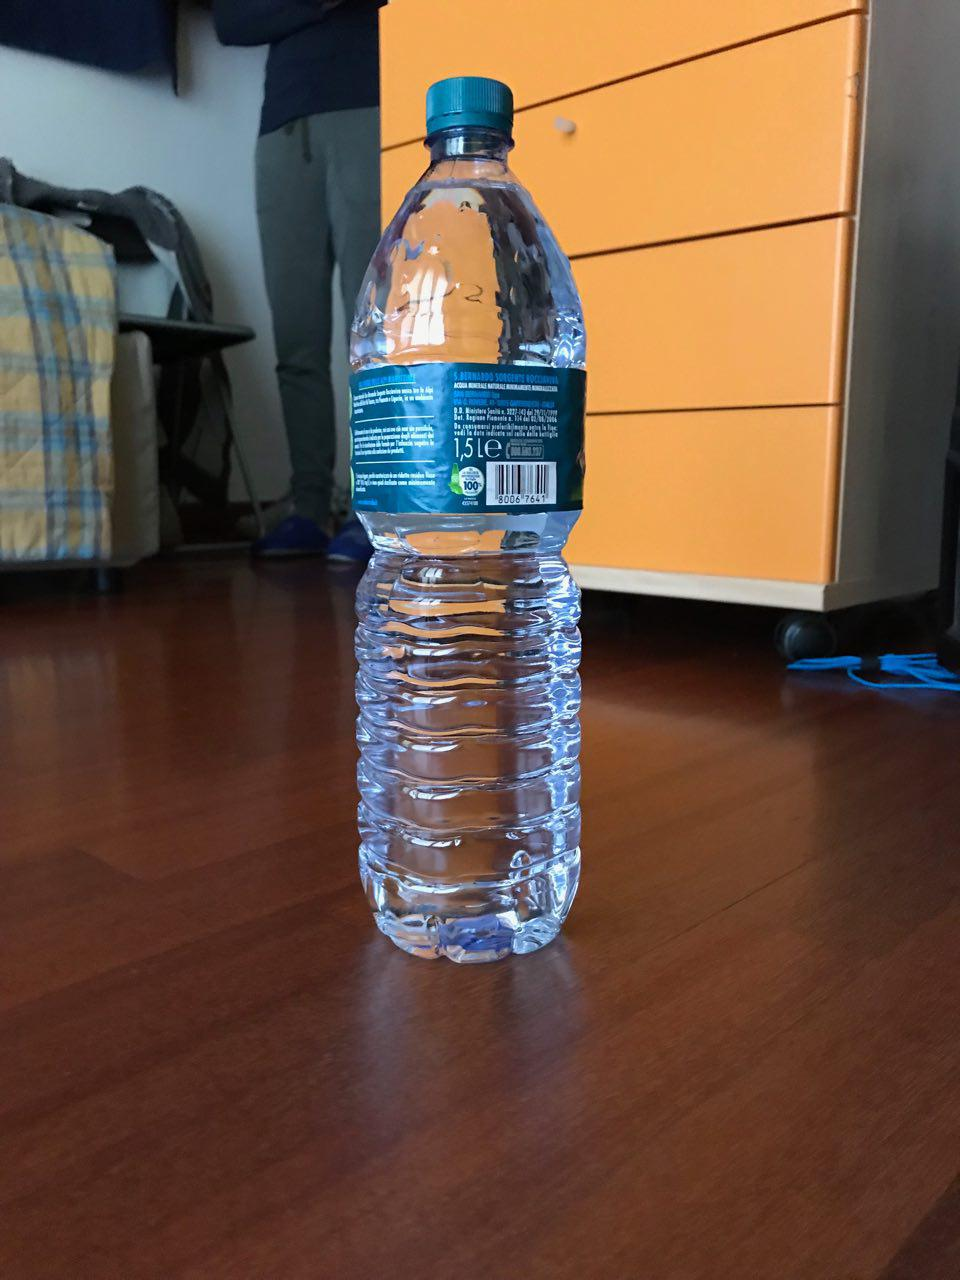san_bernardo: (346, 74, 589, 965)
